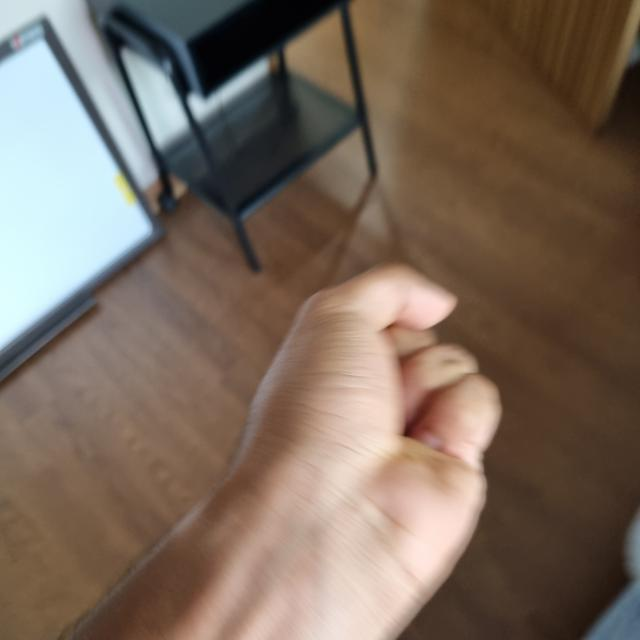Rock: (202, 265, 501, 638)
